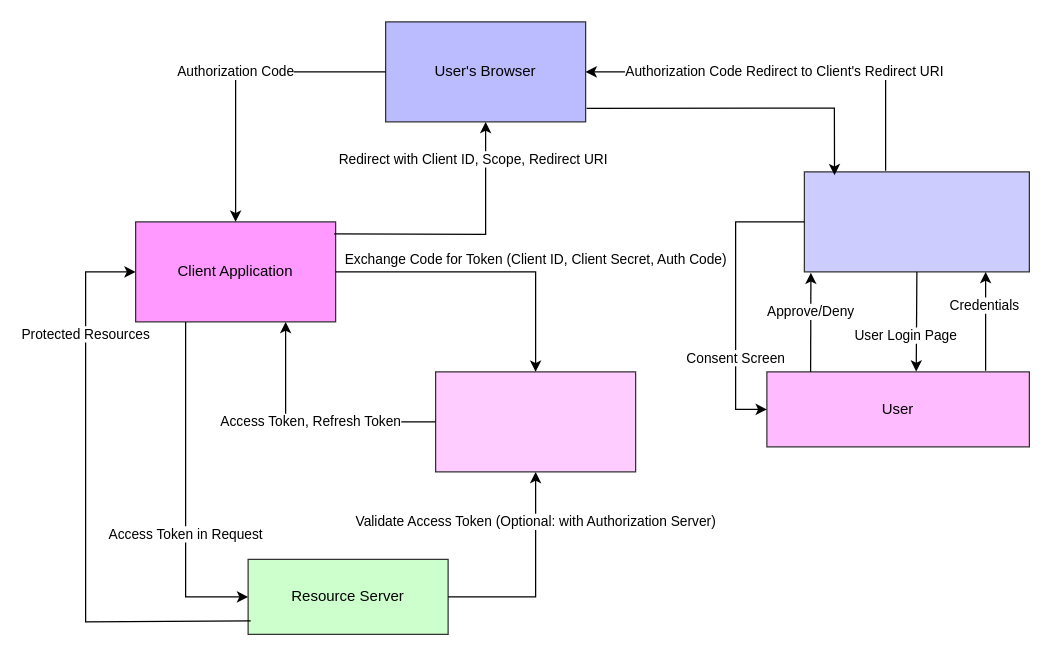
Some shapes in this 1051 by 656 pixel diagram are drawn without their labels. Here are the shapes that lost their labels. From the top down, the box of each, then its label:
(803, 171, 1029, 272): Authorization Server
(434, 371, 636, 472): Authorization Server's Token Endpoint
